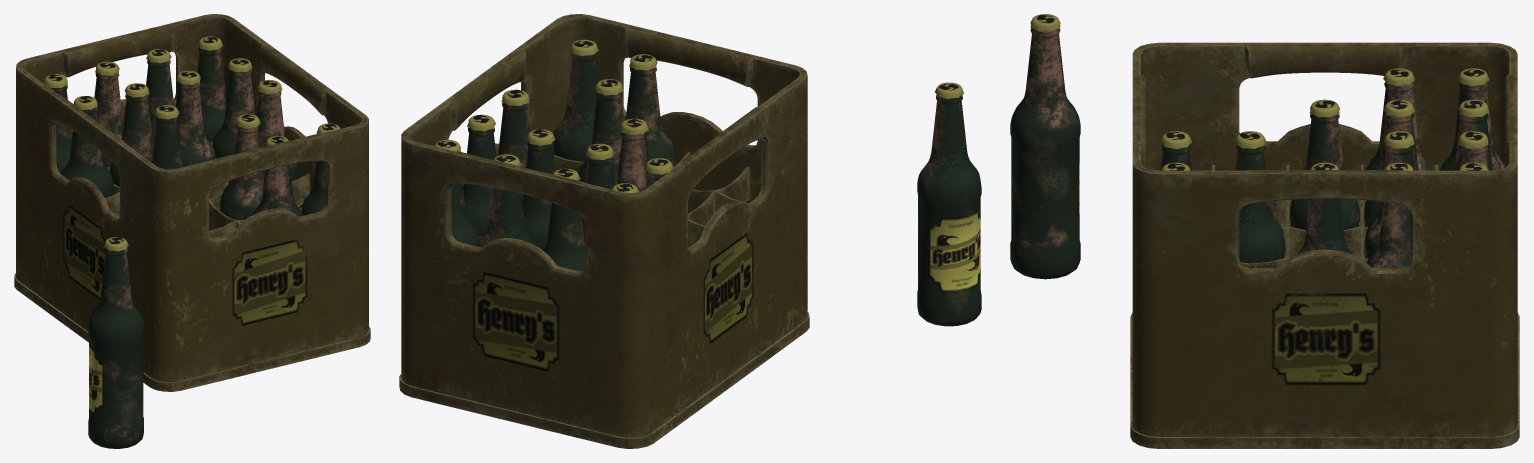
The model's file is detailed_beer_case.glb.
3 renders of one model, left to right at view 1: azimuth 30°, elevation 25°; view 2: azimuth 150°, elevation 25°; view 3: azimuth 270°, elevation 25°, orthographic. The views are drawn at different scales.
Visible parts, largest first — view 1: Object_2, Object_3; view 2: Object_2, Object_3; view 3: Object_2, Object_3.
Boxes of the visible parts, <box> form: Object_2: <box>14,14,370,391</box>; Object_3: <box>44,36,340,448</box>; Object_2: <box>399,14,809,448</box>; Object_3: <box>434,39,981,326</box>; Object_2: <box>1130,42,1519,448</box>; Object_3: <box>1010,14,1504,279</box>.
Size of the model in its own units: 0.4425 by 0.2879 by 0.4853.
2 materials, 2 textured.
